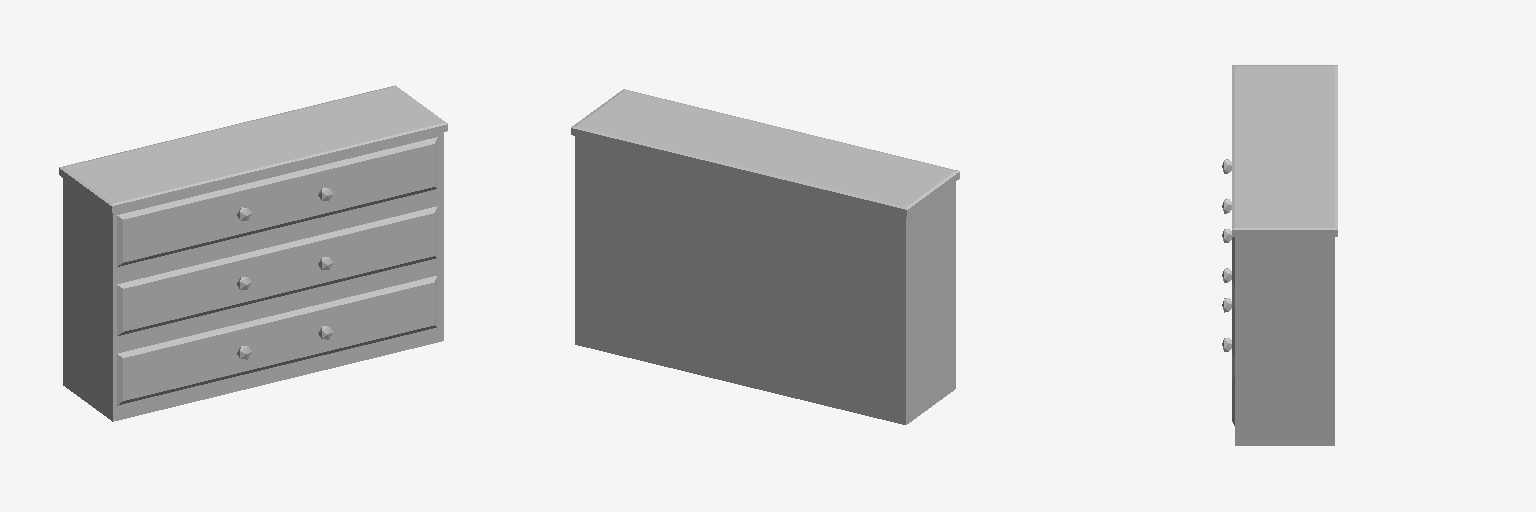
File: wardrobe.obj
The picture shows the model from 3 angles: view 1: azimuth 30°, elevation 25°; view 2: azimuth 150°, elevation 25°; view 3: azimuth 270°, elevation 25°; orthographic projection.
Bounding box in the file's own units: 2.04 × 1.26 × 0.6071.